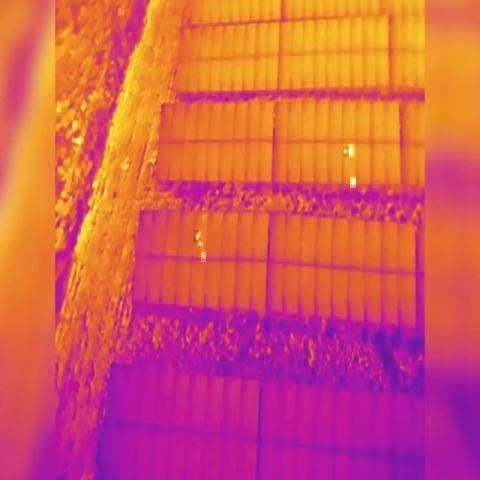fault: (193, 230, 199, 242), (344, 146, 350, 157), (350, 177, 356, 188), (348, 144, 353, 157), (201, 252, 206, 262), (198, 239, 202, 248)
